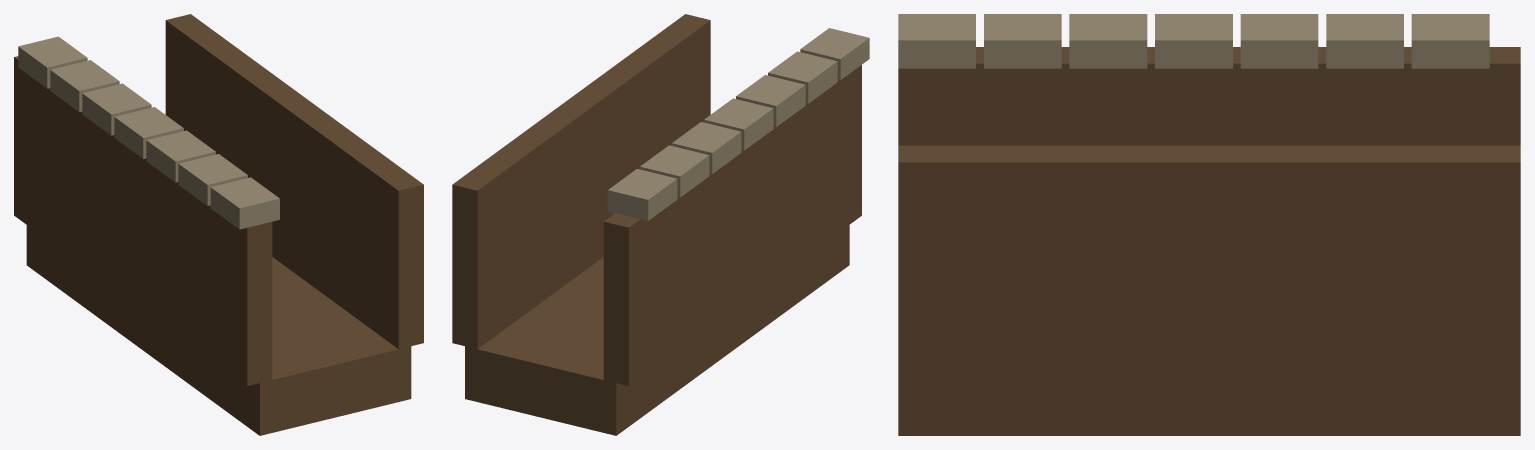
File: Trench.obj
The picture shows the model from 3 angles, left to right: view 1: azimuth 30°, elevation 25°; view 2: azimuth 150°, elevation 25°; view 3: azimuth 270°, elevation 25°; orthographic projection. The views are drawn at different scales.
Parts seen in each view (by area): view 1: Cube.005, Cube.004, Cube.003, Cube.006, Cube.007, Cube.008, Cube.010, Cube.011, Cube.012, Cube.009; view 2: Cube.005, Cube.004, Cube.003, Cube.012, Cube.007, Cube.011, Cube.006, Cube.009, Cube.010, Cube.008; view 3: Cube.005, Cube.004, Cube.003, Cube.008, Cube.010, Cube.012, Cube.006, Cube.007, Cube.009, Cube.011.
Boxes of the visible parts, x1,y1,x2,y2 form: Cube.005: (165, 14, 423, 349); Cube.004: (14, 56, 272, 386); Cube.003: (26, 225, 411, 435); Cube.006: (210, 177, 279, 229); Cube.007: (178, 154, 247, 205); Cube.008: (146, 130, 215, 182); Cube.010: (82, 83, 151, 135); Cube.011: (50, 60, 119, 112); Cube.012: (18, 36, 87, 88); Cube.009: (114, 107, 183, 158); Cube.005: (452, 14, 710, 349); Cube.004: (603, 65, 861, 385); Cube.003: (465, 225, 849, 435); Cube.012: (607, 169, 677, 220); Cube.007: (768, 51, 837, 103); Cube.011: (640, 145, 709, 197); Cube.006: (800, 28, 869, 80); Cube.009: (704, 98, 773, 150); Cube.010: (672, 122, 741, 173); Cube.008: (736, 75, 805, 126); Cube.005: (898, 145, 1520, 373); Cube.004: (898, 47, 1520, 145); Cube.003: (898, 373, 1520, 435); Cube.008: (1069, 14, 1147, 68); Cube.010: (1240, 14, 1318, 68); Cube.012: (1411, 14, 1489, 68); Cube.006: (898, 14, 975, 68); Cube.007: (984, 14, 1061, 68); Cube.009: (1155, 14, 1232, 68); Cube.011: (1326, 14, 1403, 68).
Bounding box in the file's own units: 3.65 × 4.4 × 8.
